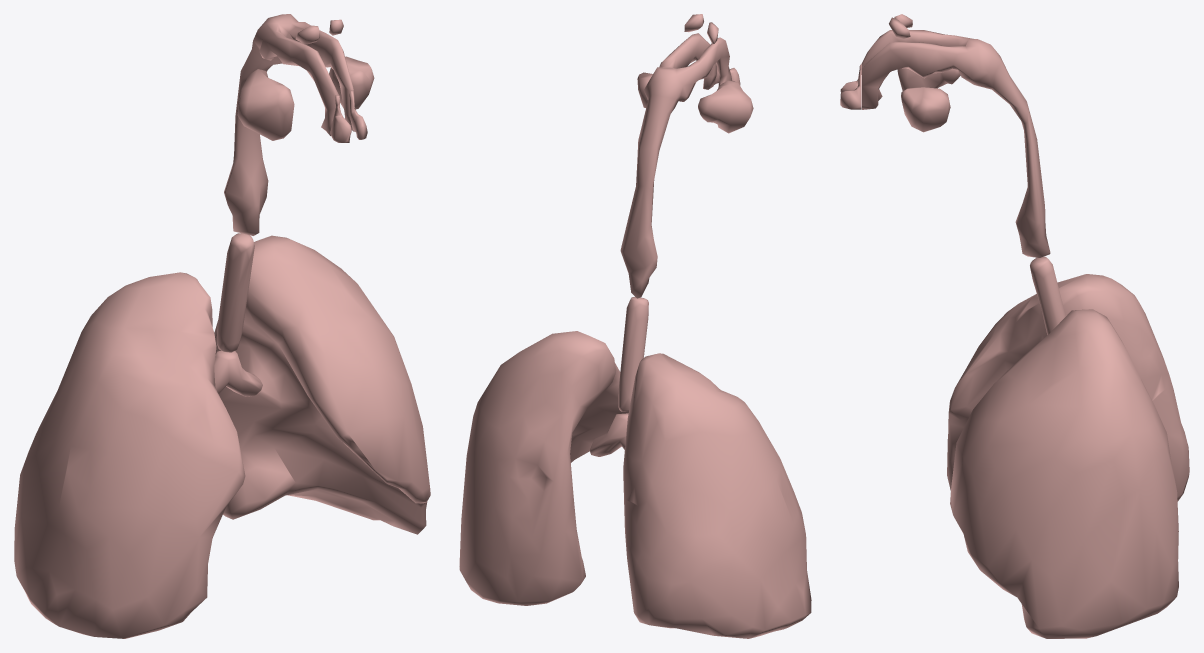
Rendered from pediatric_child_10y_male.respiratory.LOD2.glb.
3 renders of one model, left to right at view 1: azimuth 30°, elevation 25°; view 2: azimuth 150°, elevation 25°; view 3: azimuth 270°, elevation 25°, orthographic. The views are drawn at different scales.
Visible parts, largest first — view 1: PEDIATRIC.CHILD_10Y.MALE.RESPIRATORY.LUNG.R, PEDIATRIC.CHILD_10Y.MALE.RESPIRATORY.LUNG.L, PEDIATRIC.CHILD_10Y.MALE.RESPIRATORY.ET2, PEDIATRIC.CHILD_10Y.MALE.RESPIRATORY.TRACHEA, PEDIATRIC.CHILD_10Y.MALE.RESPIRATORY.BB1, PEDIATRIC.CHILD_10Y.MALE.RESPIRATORY.ET1; view 2: PEDIATRIC.CHILD_10Y.MALE.RESPIRATORY.LUNG.R, PEDIATRIC.CHILD_10Y.MALE.RESPIRATORY.LUNG.L, PEDIATRIC.CHILD_10Y.MALE.RESPIRATORY.ET2, PEDIATRIC.CHILD_10Y.MALE.RESPIRATORY.TRACHEA, PEDIATRIC.CHILD_10Y.MALE.RESPIRATORY.BB1; view 3: PEDIATRIC.CHILD_10Y.MALE.RESPIRATORY.LUNG.L, PEDIATRIC.CHILD_10Y.MALE.RESPIRATORY.ET2, PEDIATRIC.CHILD_10Y.MALE.RESPIRATORY.LUNG.R, PEDIATRIC.CHILD_10Y.MALE.RESPIRATORY.TRACHEA, PEDIATRIC.CHILD_10Y.MALE.RESPIRATORY.ET1.
Boxes of the visible parts, <box> form: PEDIATRIC.CHILD_10Y.MALE.RESPIRATORY.LUNG.R: <box>14,272,245,638</box>; PEDIATRIC.CHILD_10Y.MALE.RESPIRATORY.LUNG.L: <box>214,235,430,534</box>; PEDIATRIC.CHILD_10Y.MALE.RESPIRATORY.ET2: <box>224,14,374,235</box>; PEDIATRIC.CHILD_10Y.MALE.RESPIRATORY.TRACHEA: <box>216,233,254,352</box>; PEDIATRIC.CHILD_10Y.MALE.RESPIRATORY.BB1: <box>214,350,262,396</box>; PEDIATRIC.CHILD_10Y.MALE.RESPIRATORY.ET1: <box>330,90,367,142</box>; PEDIATRIC.CHILD_10Y.MALE.RESPIRATORY.LUNG.R: <box>623,353,811,638</box>; PEDIATRIC.CHILD_10Y.MALE.RESPIRATORY.LUNG.L: <box>459,331,628,605</box>; PEDIATRIC.CHILD_10Y.MALE.RESPIRATORY.ET2: <box>620,14,753,298</box>; PEDIATRIC.CHILD_10Y.MALE.RESPIRATORY.TRACHEA: <box>618,297,648,411</box>; PEDIATRIC.CHILD_10Y.MALE.RESPIRATORY.BB1: <box>589,413,628,456</box>; PEDIATRIC.CHILD_10Y.MALE.RESPIRATORY.LUNG.L: <box>950,309,1178,638</box>; PEDIATRIC.CHILD_10Y.MALE.RESPIRATORY.ET2: <box>861,14,1050,257</box>; PEDIATRIC.CHILD_10Y.MALE.RESPIRATORY.LUNG.R: <box>947,274,1189,501</box>; PEDIATRIC.CHILD_10Y.MALE.RESPIRATORY.TRACHEA: <box>1030,256,1065,334</box>; PEDIATRIC.CHILD_10Y.MALE.RESPIRATORY.ET1: <box>840,63,861,109</box>.
Size of the model in its own units: 0.1983 by 0.3064 by 0.1759.
